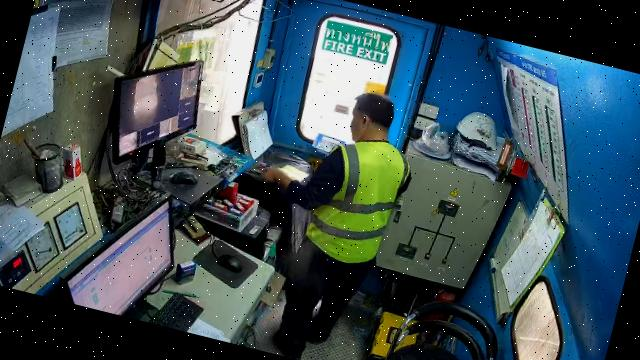Head: (352, 93, 395, 142)
People: (263, 95, 411, 359)
